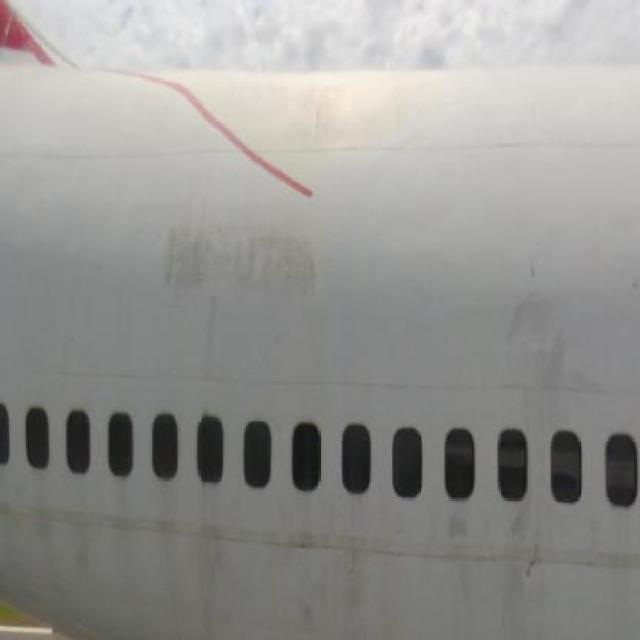Scartch: (148, 213, 337, 324)
